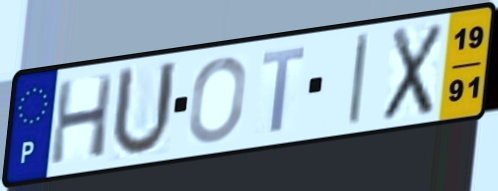H: (47, 70, 118, 168)
I: (346, 29, 372, 129)
O: (185, 54, 250, 146)
T: (259, 44, 309, 137)
U: (107, 58, 180, 161)
X: (379, 20, 446, 125)
